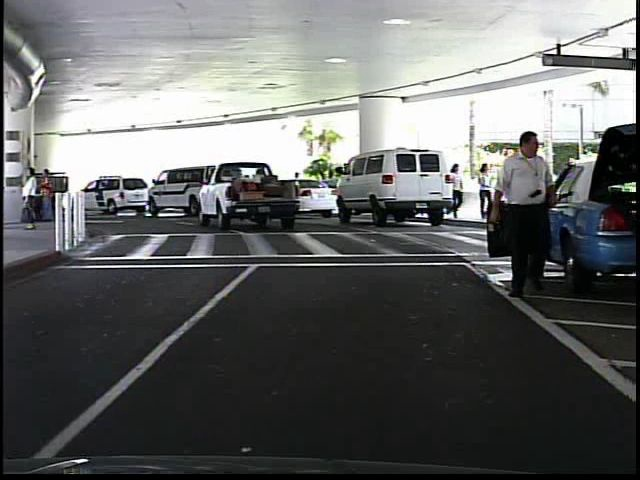person: (489, 124, 560, 303), (475, 162, 495, 219), (450, 159, 465, 219), (289, 167, 306, 214)
